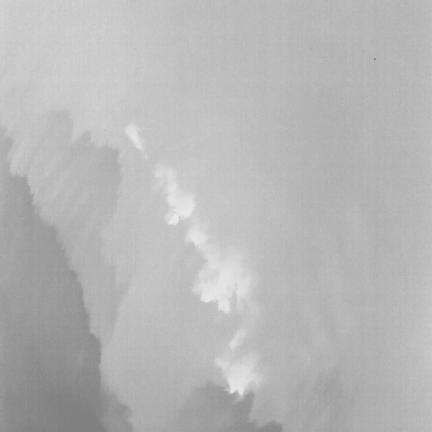flukeprints: (188, 221, 248, 313), (156, 167, 194, 224), (216, 357, 257, 395), (125, 124, 146, 158)
